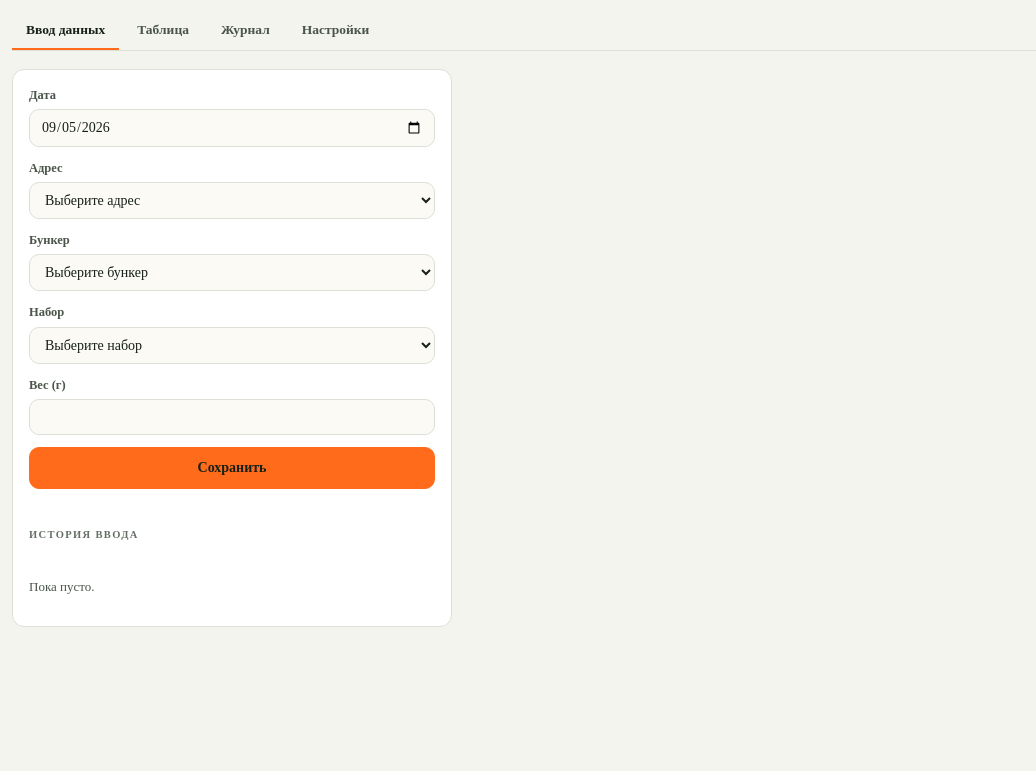
Scenario: формы настроек кофе › передаёт очищенное имя при переименовании и показывает отказ Core
Click the button "Настройки".
click(336, 31)  # box [288, 12, 383, 50]
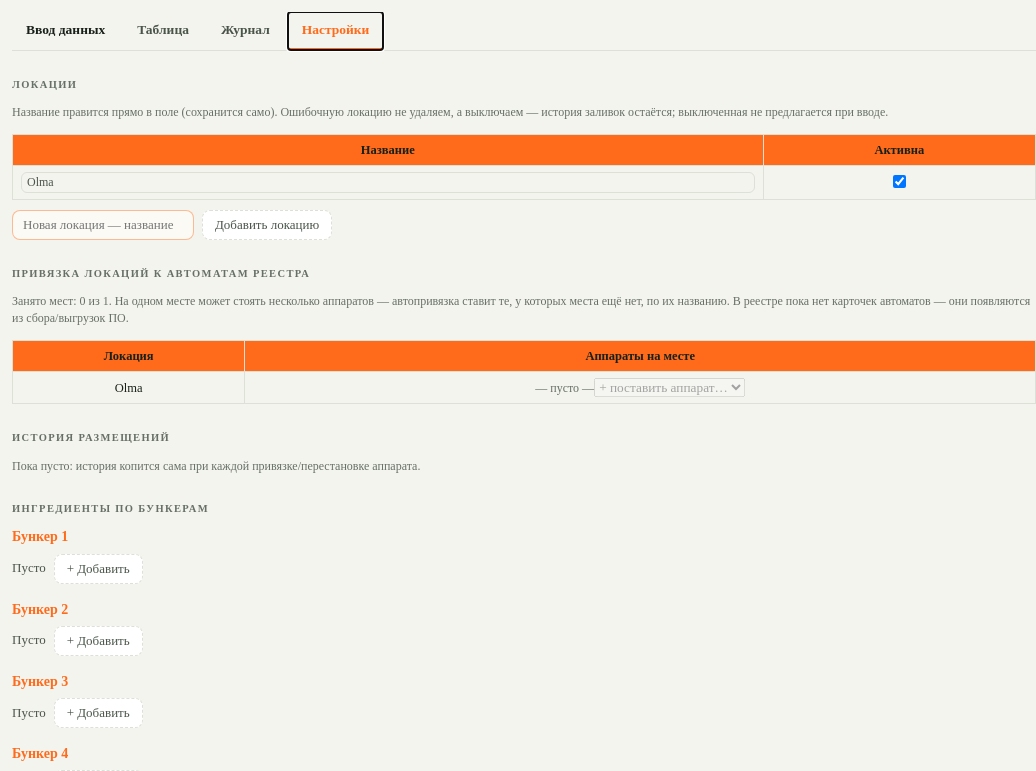
Replace the text in the field showing "Olma" with "  Olma склад  " at (388, 182), box [21, 172, 755, 193]
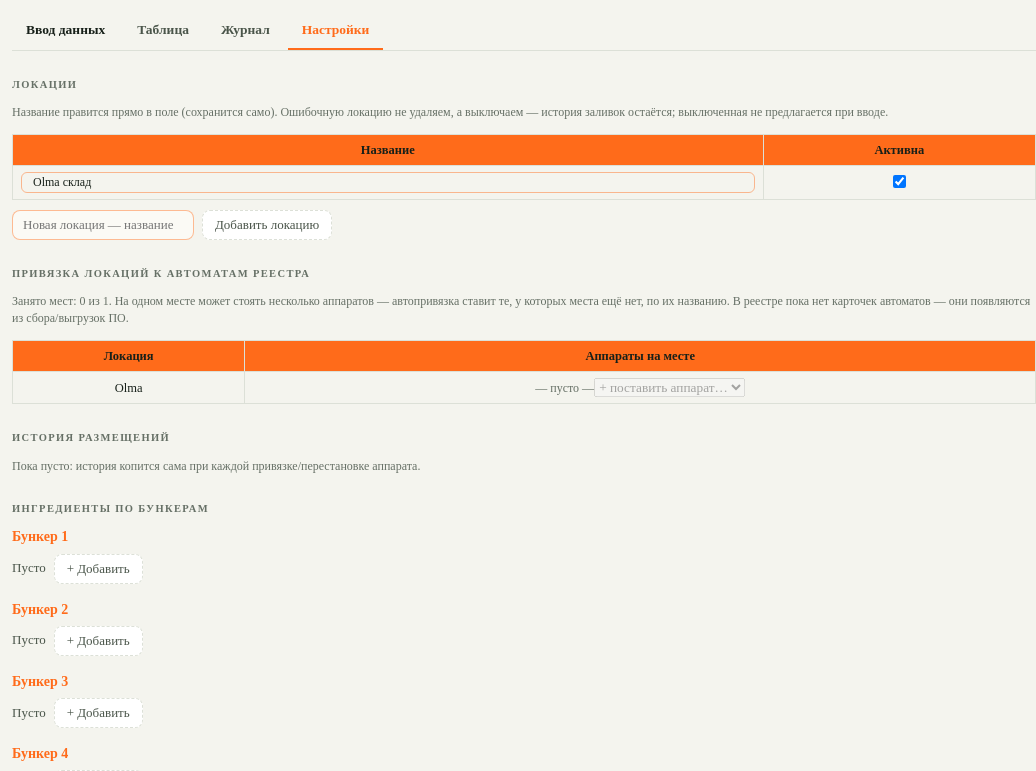
Press Tab
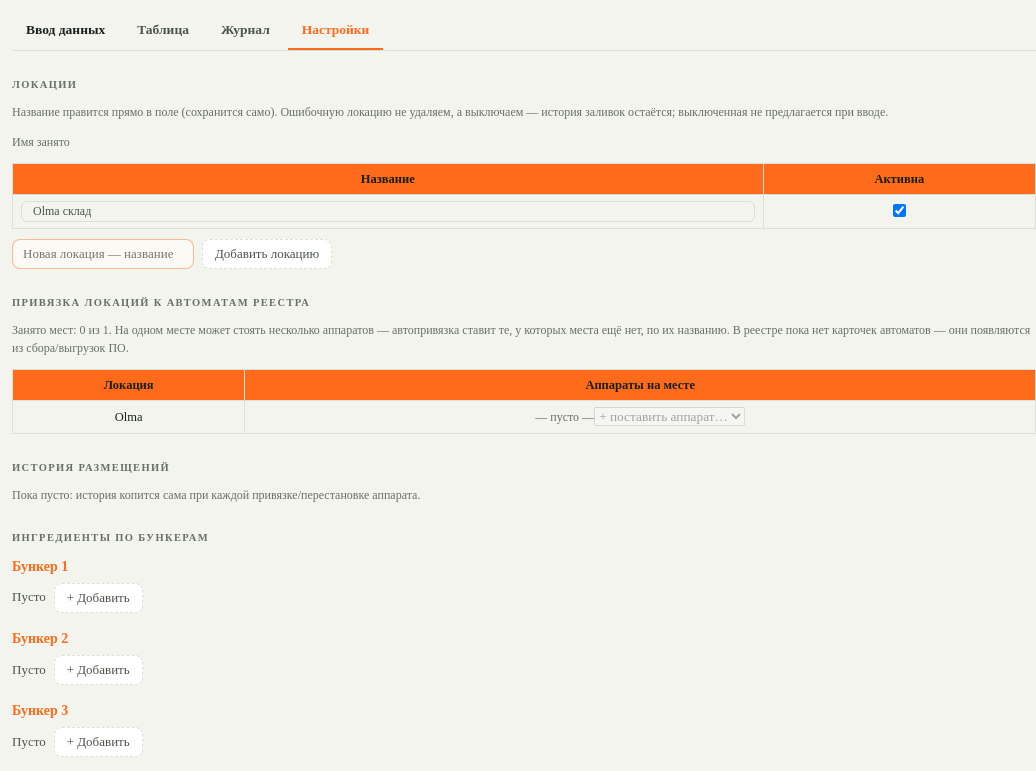
Result: the text "Имя занято" is shown at [12, 135, 70, 149]
